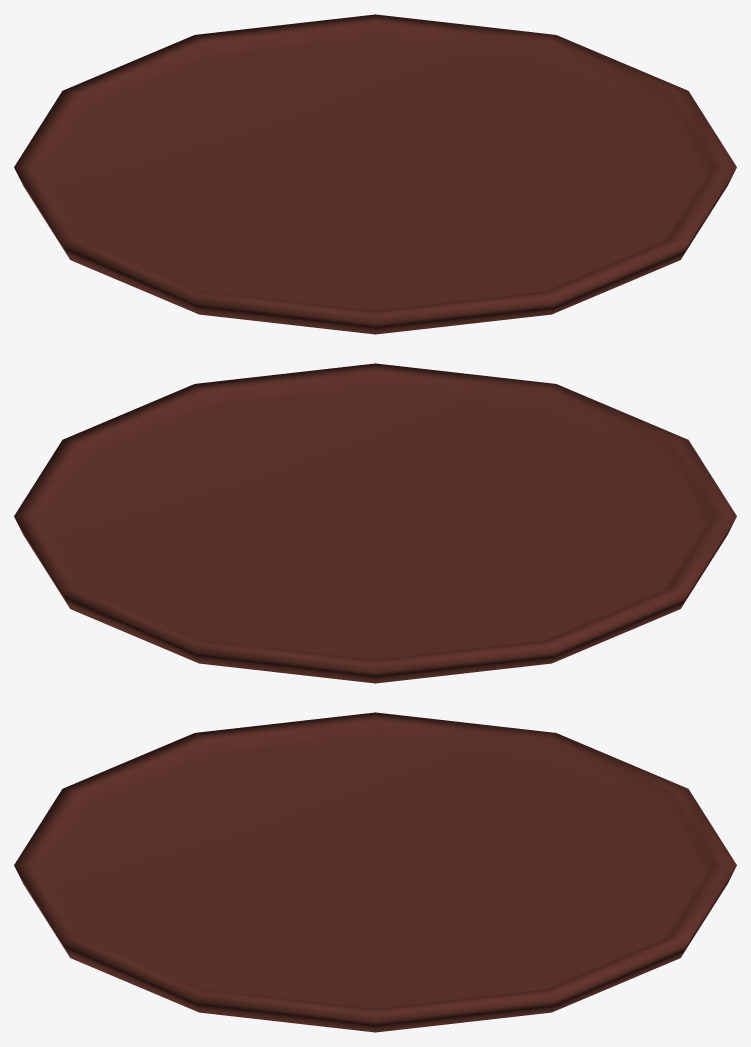
Rendered from SM_OfferingTray.glb.
3 renders of one model, top to bottom at view 1: azimuth 30°, elevation 25°; view 2: azimuth 150°, elevation 25°; view 3: azimuth 270°, elevation 25°, orthographic.
Parts seen in each view (by area): view 1: SM_OfferingTray; view 2: SM_OfferingTray; view 3: SM_OfferingTray.
Part boxes in pixels (x1,y1,x2,y2): SM_OfferingTray: (14, 14, 736, 334); SM_OfferingTray: (14, 363, 736, 683); SM_OfferingTray: (14, 712, 736, 1032).
Bounding box in the file's own units: 0.84 × 0.0412 × 0.84.
